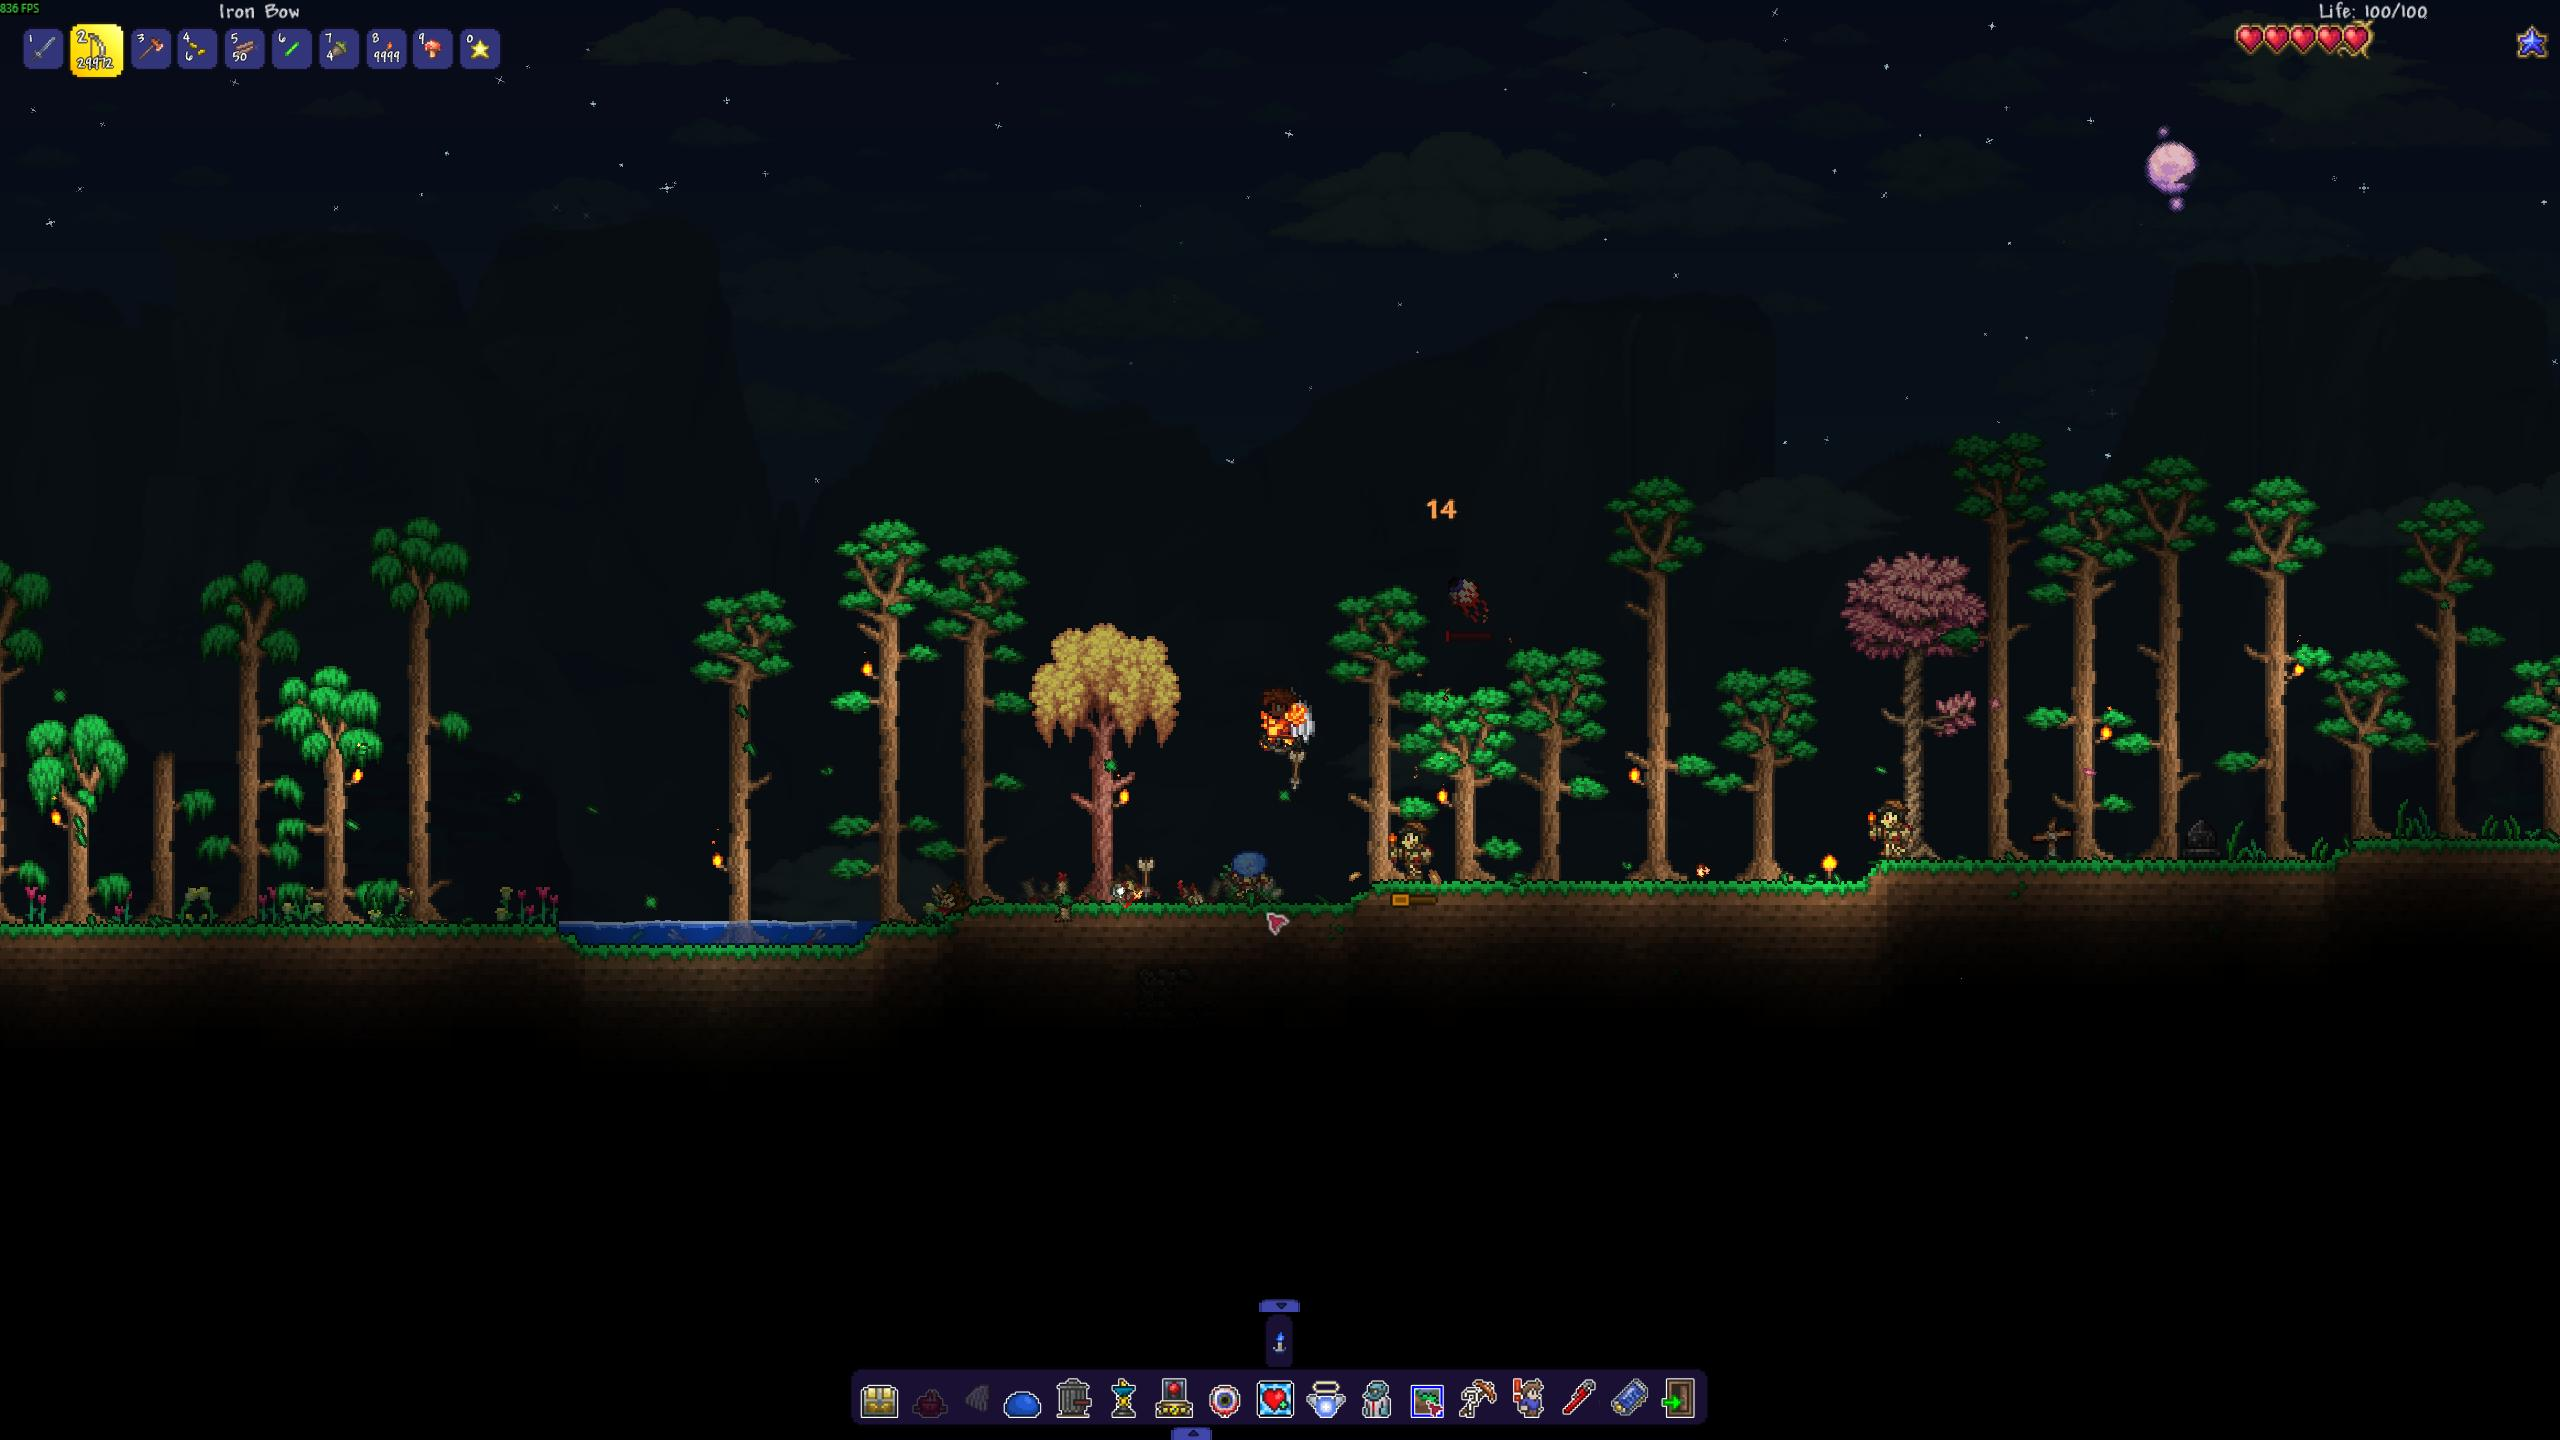Demon Eye: (1445, 568, 1495, 631)
Zombie: (1858, 795, 1911, 862), (1387, 814, 1433, 879), (1225, 840, 1271, 900)
